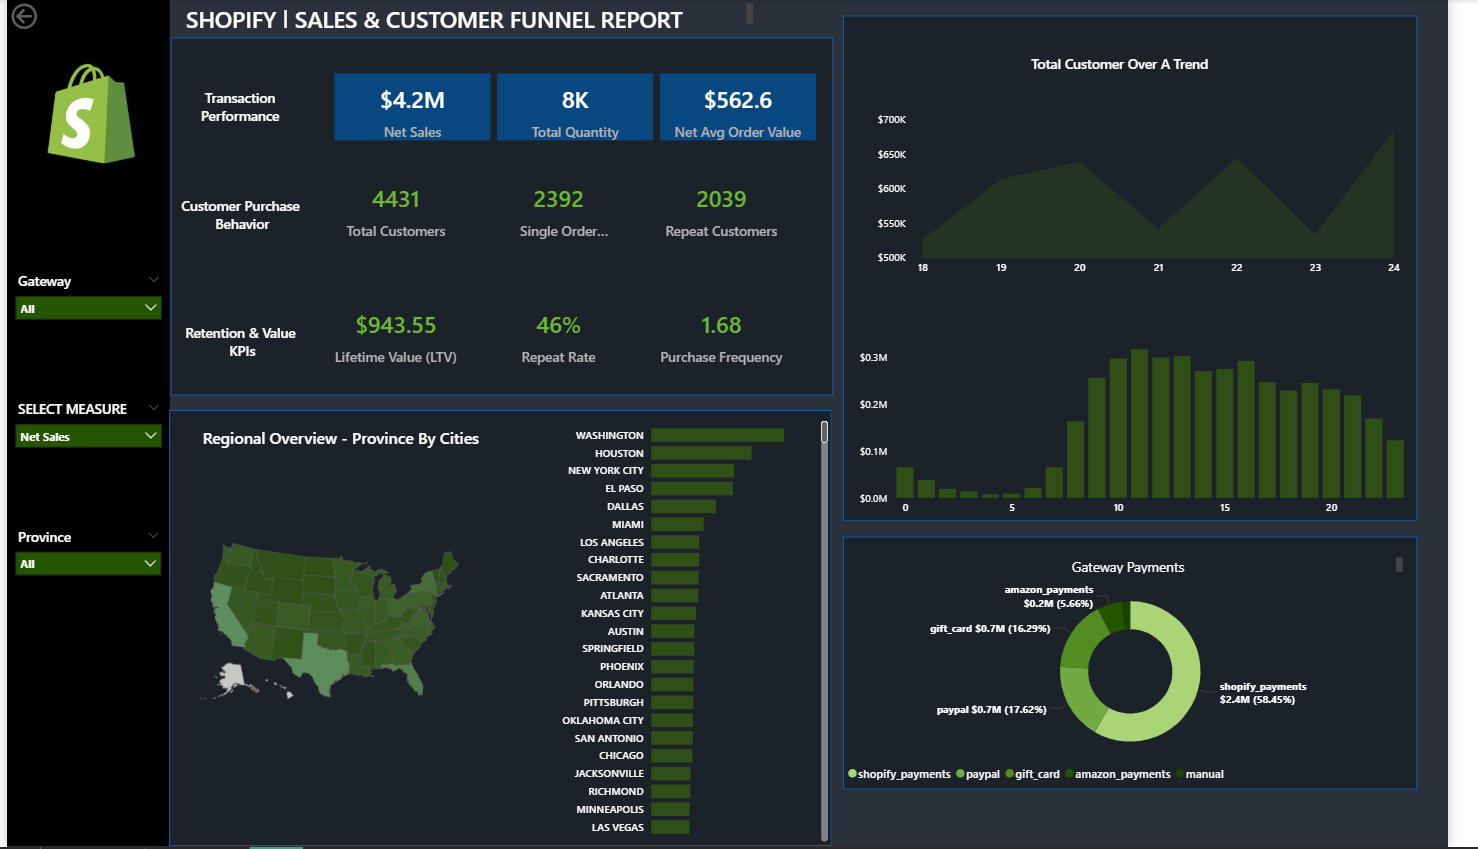

The dashboard page shown, as its layout file describes it:
{"tool":"powerbi","page":{"name":"Page 1","canvas":[1700,1000],"ordinal":0},"visuals":[{"type":"shape","box":[0,0,192.3,999.2],"z":0},{"type":"textbox","box":[206.7,0,679.3,39.5],"z":1000},{"type":"shape","box":[192.3,44.9,781.7,422.3],"z":2000},{"type":"cardVisual","fields":{"Data":["shopify_sales.Net Sales","shopify_sales.Total Quantity","shopify_sales.Net Avg Order Value"]},"box":[381,82.7,578.7,89.9],"z":3000},{"type":"card","fields":{"Values":["shopify_sales.transaction perf"]},"box":[207.5,81.7,139.1,90.5],"z":4000},{"type":"cardVisual","fields":{"Data":["shopify_sales.Total Customers","shopify_sales.Single Order Customers","shopify_sales.Repeat Customers"]},"box":[361.2,199.5,578.7,89.9],"z":5000},{"type":"card","fields":{"Values":["shopify_sales.Customer Purchase Behavior"]},"box":[192.3,219.2,168.9,70.1],"z":6000},{"type":"cardVisual","fields":{"Data":["shopify_sales.Lifetime Value (LTV)","shopify_sales.Repeat Rate","shopify_sales.Purchase Frequency"]},"box":[361.2,348.6,578.7,89.9],"z":7000},{"type":"card","fields":{"Values":["shopify_sales.Retention & Value KPIs"]},"box":[192.3,368.4,168.9,70.1],"z":8000},{"type":"actionButton","box":[0,0,100,40],"z":9000},{"type":"shape","box":[192,485.6,781.4,514.3],"z":10000},{"type":"shapeMap","fields":{"Category":["shopify_sales.Billing Address Province"],"Value":["shopify_sales.Net Sales"]},"box":[206.7,593,348.6,280.3],"z":11000},{"type":"clusteredBarChart","fields":{"Y":["shopify_sales.Net Sales"],"Category":["shopify_sales.CITY"]},"box":[605.6,485.2,368.4,514],"z":12000},{"type":"textbox","box":[206.7,499.6,375.6,43.1],"z":13000},{"type":"shape","box":[986.6,19.8,677.5,596.6],"z":14000},{"type":"areaChart","fields":{"Y":["shopify_sales.Net Sales"],"Category":["shopify_sales.Invoice Date.Variation.Date Hierarchy.Day"]},"box":[1022.5,127.6,629,206.7],"z":15000},{"type":"columnChart","fields":{"Y":["shopify_sales.Net Sales"],"Category":["shopify_sales.Hour"]},"box":[1001,381,677.5,237.2],"z":16000},{"type":"textbox","box":[1001,59.3,623.6,68.3],"z":17000},{"type":"shape","box":[986.6,634.4,677.5,298.3],"z":18000},{"type":"donutChart","fields":{"Y":["shopify_sales.Net Sales"],"Category":["shopify_sales.Gateway"]},"box":[986.6,682.9,677.5,249.8],"z":19000},{"type":"textbox","box":[1001,654.1,650.5,28.8],"z":20000},{"type":"slicer","fields":{"Values":["shopify_sales.Gateway"]},"box":[0,316.3,192.3,88.1],"z":21000},{"type":"slicer","fields":{"Values":["SELECT MEASURE .SELECT MEASURE"]},"box":[0,467.2,192.3,75.5],"z":22000},{"type":"image","box":[27,71.9,143.8,127.6],"z":23000},{"type":"slicer","fields":{"Values":["shopify_sales.Billing Address Province"]},"box":[0,617.5,191.6,65.2],"z":24000}]}

Visuals, with their boxes on the page's 1700x1000 design canvas (x1, y1, x2, y2). These are canvas units, not pixel positions in the 1478x849 screenshot, which may show the page scaled, cropped or inside an application window:
shape: (x1=0, y1=0, x2=192, y2=999)
textbox: (x1=207, y1=0, x2=886, y2=40)
shape: (x1=192, y1=45, x2=974, y2=467)
cardVisual - shopify_sales.Net Sales x shopify_sales.Total Quantity: (x1=381, y1=83, x2=960, y2=173)
card - shopify_sales.transaction perf: (x1=208, y1=82, x2=347, y2=172)
cardVisual - shopify_sales.Total Customers x shopify_sales.Single Order Customers: (x1=361, y1=200, x2=940, y2=289)
card - shopify_sales.Customer Purchase Behavior: (x1=192, y1=219, x2=361, y2=289)
cardVisual - shopify_sales.Lifetime Value (LTV) x shopify_sales.Repeat Rate: (x1=361, y1=349, x2=940, y2=438)
card - shopify_sales.Retention & Value KPIs: (x1=192, y1=368, x2=361, y2=438)
actionButton: (x1=0, y1=0, x2=100, y2=40)
shape: (x1=192, y1=486, x2=973, y2=1000)
shapeMap - shopify_sales.Billing Address Province x shopify_sales.Net Sales: (x1=207, y1=593, x2=555, y2=873)
clusteredBarChart - shopify_sales.Net Sales x shopify_sales.CITY: (x1=606, y1=485, x2=974, y2=999)
textbox: (x1=207, y1=500, x2=582, y2=543)
shape: (x1=987, y1=20, x2=1664, y2=616)
areaChart - shopify_sales.Net Sales x shopify_sales.Invoice Date.Variation.Date Hierarchy.Day: (x1=1022, y1=128, x2=1652, y2=334)
columnChart - shopify_sales.Net Sales x shopify_sales.Hour: (x1=1001, y1=381, x2=1678, y2=618)
textbox: (x1=1001, y1=59, x2=1625, y2=128)
shape: (x1=987, y1=634, x2=1664, y2=933)
donutChart - shopify_sales.Net Sales x shopify_sales.Gateway: (x1=987, y1=683, x2=1664, y2=933)
textbox: (x1=1001, y1=654, x2=1652, y2=683)
slicer - shopify_sales.Gateway: (x1=0, y1=316, x2=192, y2=404)
slicer - SELECT MEASURE .SELECT MEASURE: (x1=0, y1=467, x2=192, y2=543)
image: (x1=27, y1=72, x2=171, y2=200)
slicer - shopify_sales.Billing Address Province: (x1=0, y1=618, x2=192, y2=683)
